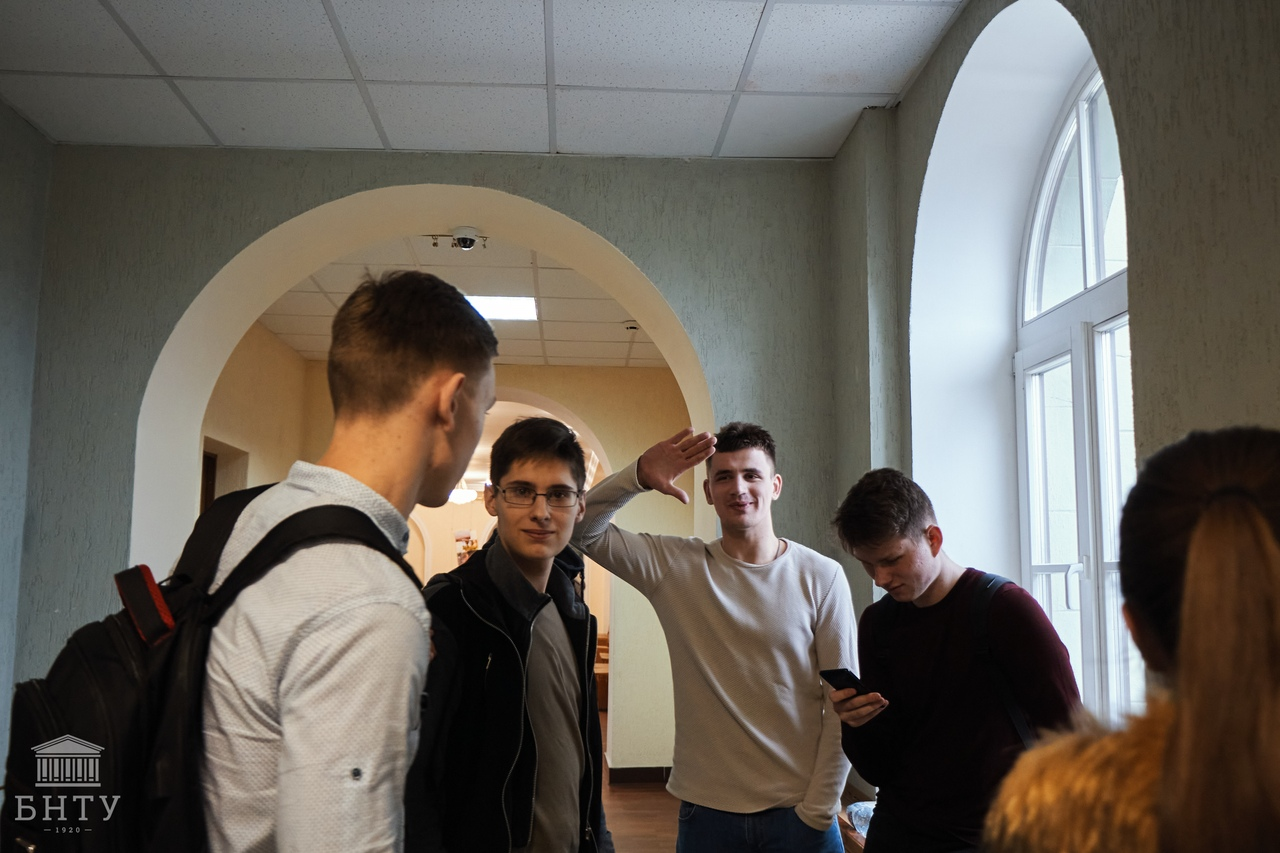students: (1, 271, 500, 853), (988, 422, 1276, 849), (573, 421, 858, 852), (818, 467, 1081, 853), (427, 418, 616, 851)
